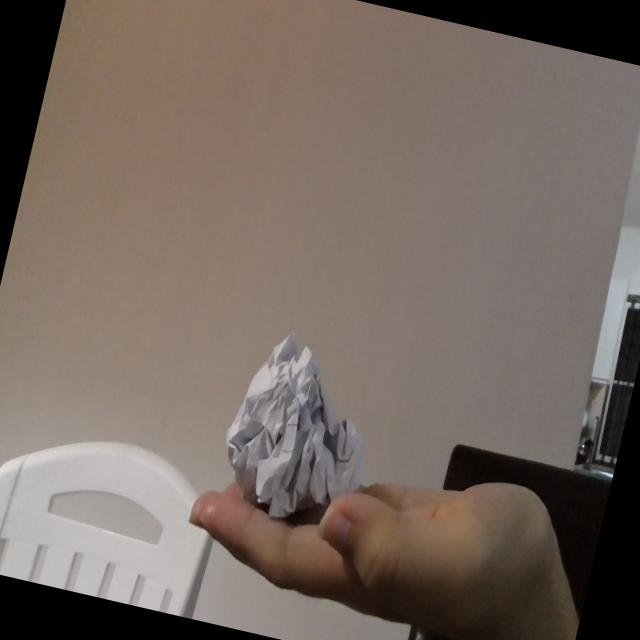crumpled_paper: (206, 314, 390, 538)
